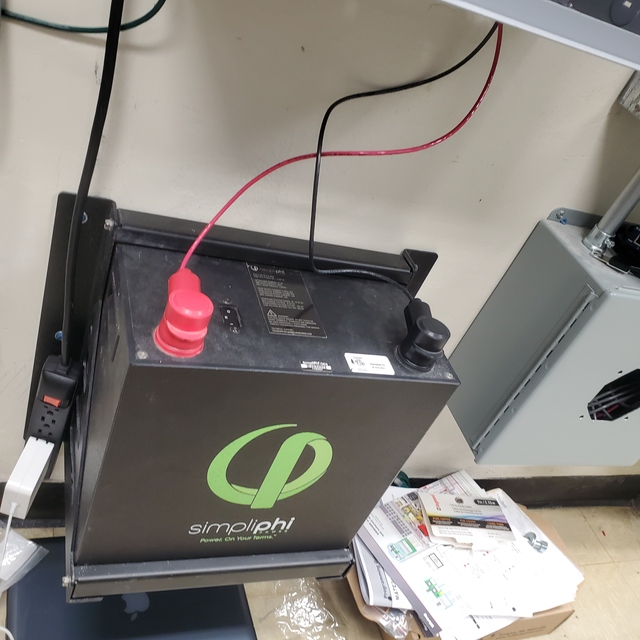battery: (68, 211, 463, 599)
